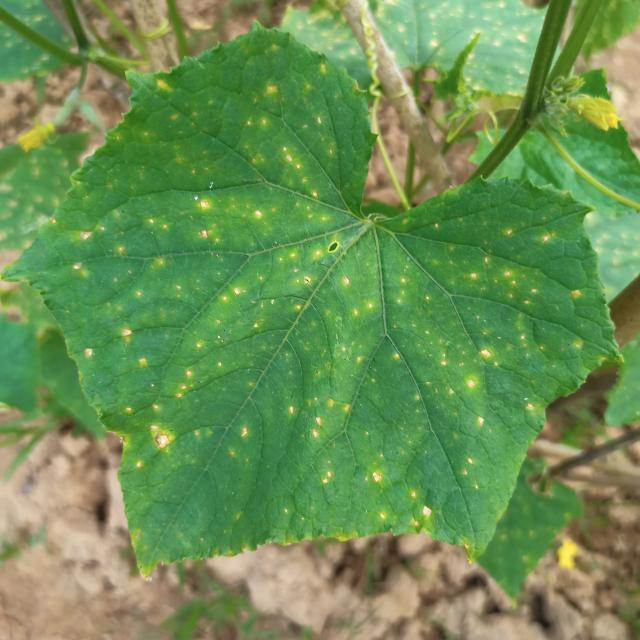disease_cucumber: (62, 66, 559, 552)
